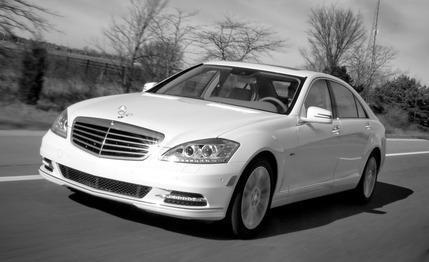car: (36, 58, 389, 243)
